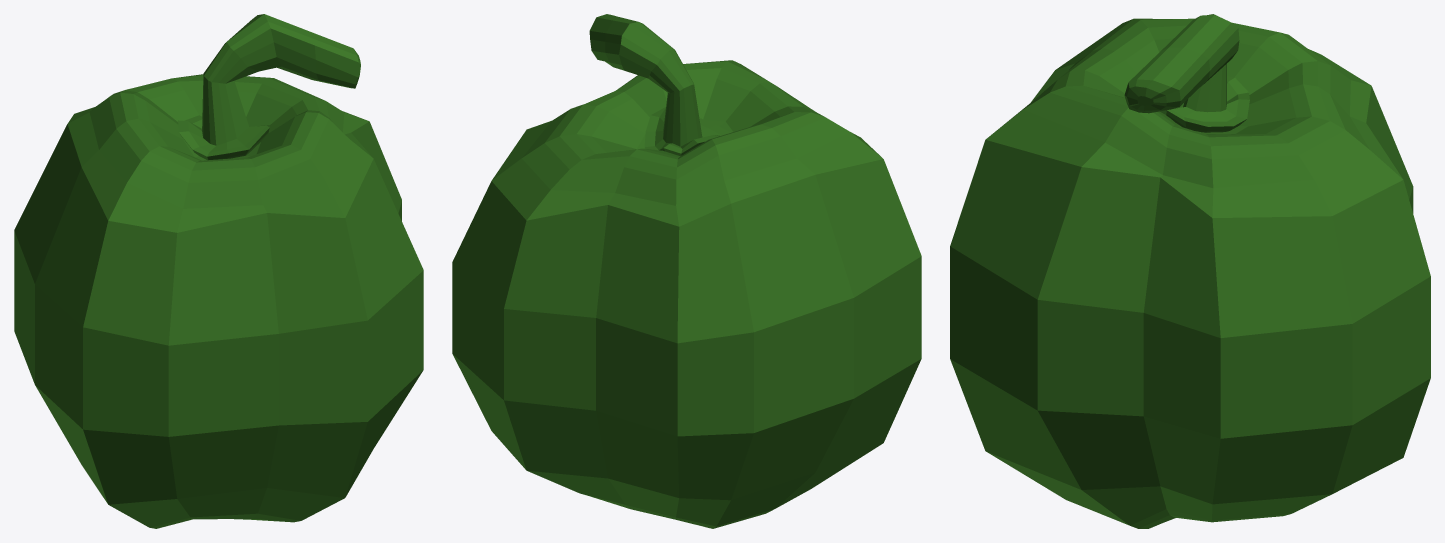
File: Bell pepper 2.fbx
The picture shows the model from 3 angles, left to right: view 1: azimuth 30°, elevation 25°; view 2: azimuth 150°, elevation 25°; view 3: azimuth 270°, elevation 25°; orthographic projection. The views are drawn at different scales.
Visible parts, largest first — view 1: Sphere.003; view 2: Sphere.003; view 3: Sphere.003.
Boxes of the visible parts, x1,y1,x2,y2 form: Sphere.003: (14,14,423,528); Sphere.003: (452,14,921,528); Sphere.003: (950,14,1430,528).
Size of the model in its own units: 0.0726 by 0.0851 by 0.0721.
